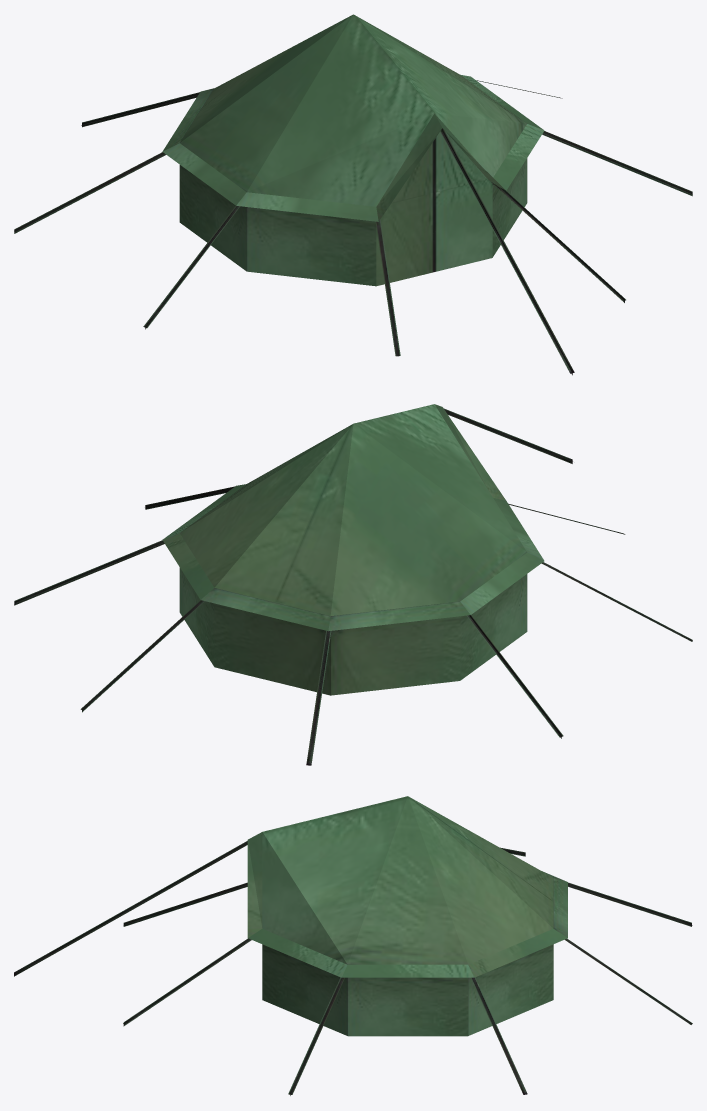
Rendered from Tent01GA.obj.
The picture shows the model from 3 angles, top to bottom: view 1: azimuth 30°, elevation 25°; view 2: azimuth 150°, elevation 25°; view 3: azimuth 270°, elevation 25°; orthographic projection. The views are drawn at different scales.
Visible parts, largest first — view 1: Tent01GA; view 2: Tent01GA; view 3: Tent01GA.
Part boxes in pixels (<box>): Tent01GA: <box>14,14,692,375</box>; Tent01GA: <box>14,404,692,765</box>; Tent01GA: <box>14,796,692,1095</box>.
Size of the model in its own units: 10.85 by 3.8 by 12.93.
